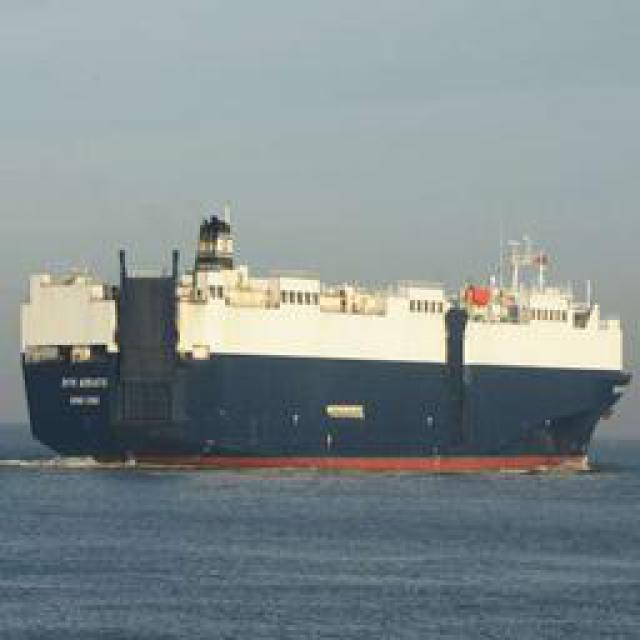Ship: (21, 202, 634, 480)
